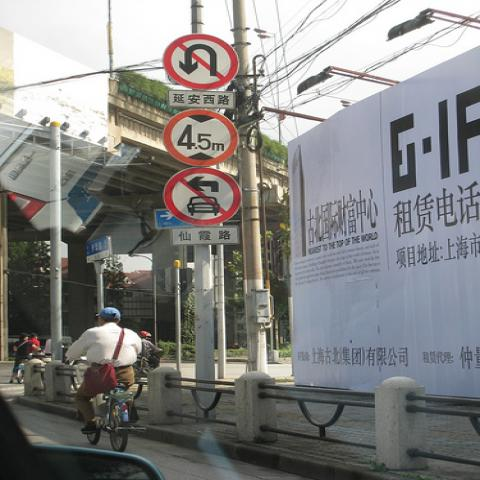car: (0, 393, 167, 479), (226, 342, 240, 350)
